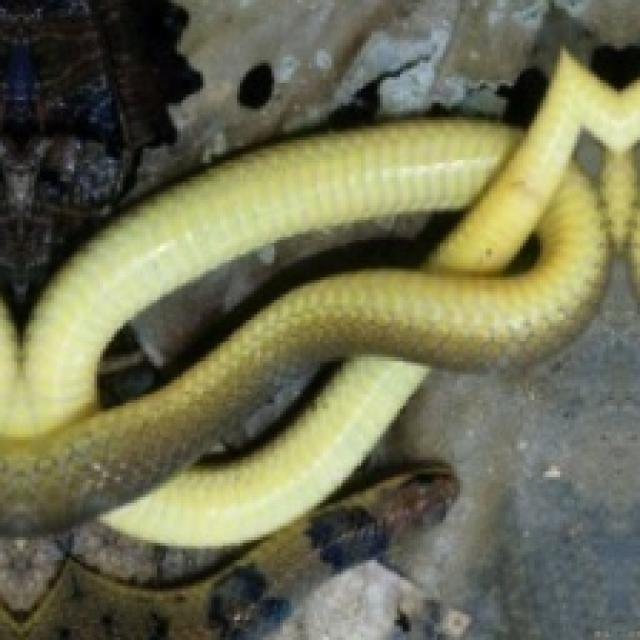luzon dwarf snake: (0, 51, 637, 531), (83, 143, 451, 271), (3, 560, 220, 637), (360, 123, 429, 160), (340, 131, 360, 154), (320, 157, 337, 177), (343, 154, 357, 174), (363, 154, 377, 171)
